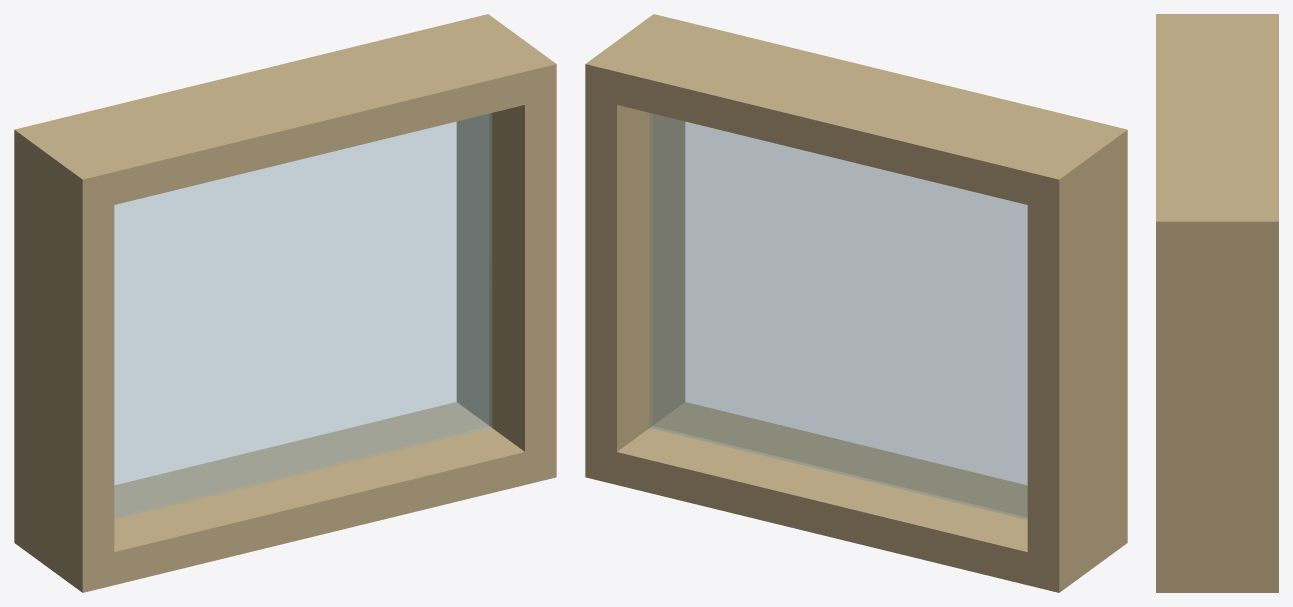
File: janela_60x50.obj
The picture shows the model from 3 angles, left to right: view 1: azimuth 30°, elevation 25°; view 2: azimuth 150°, elevation 25°; view 3: azimuth 270°, elevation 25°; orthographic projection. The views are drawn at different scales.
Visible parts, largest first — view 1: janela_60x50; view 2: janela_60x50; view 3: janela_60x50.
Boxes of the visible parts, left/top/right/bottom form: janela_60x50: left=14, top=14, right=556, bottom=592; janela_60x50: left=585, top=14, right=1127, bottom=592; janela_60x50: left=1156, top=14, right=1278, bottom=592.
Bounding box in the file's own units: 0.6 × 0.5 × 0.15.
